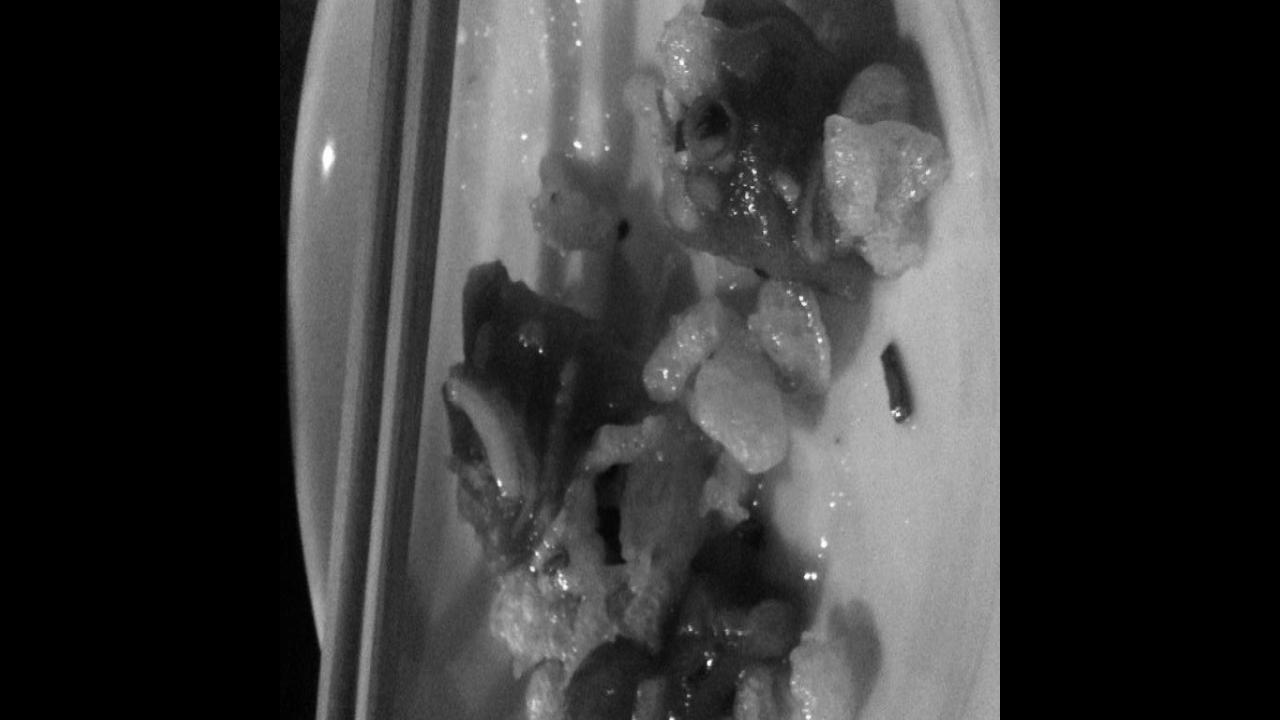chopstick: (295, 0, 485, 720)
